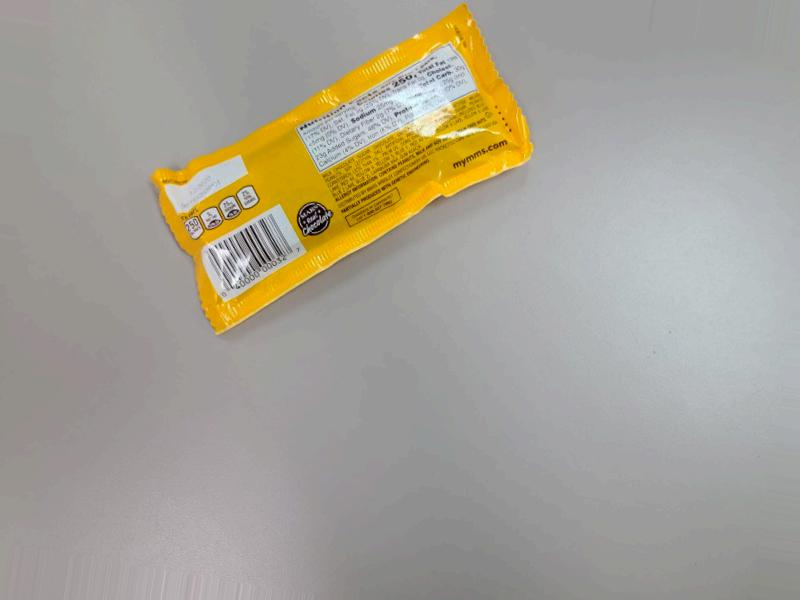m&m: (140, 0, 535, 362)
